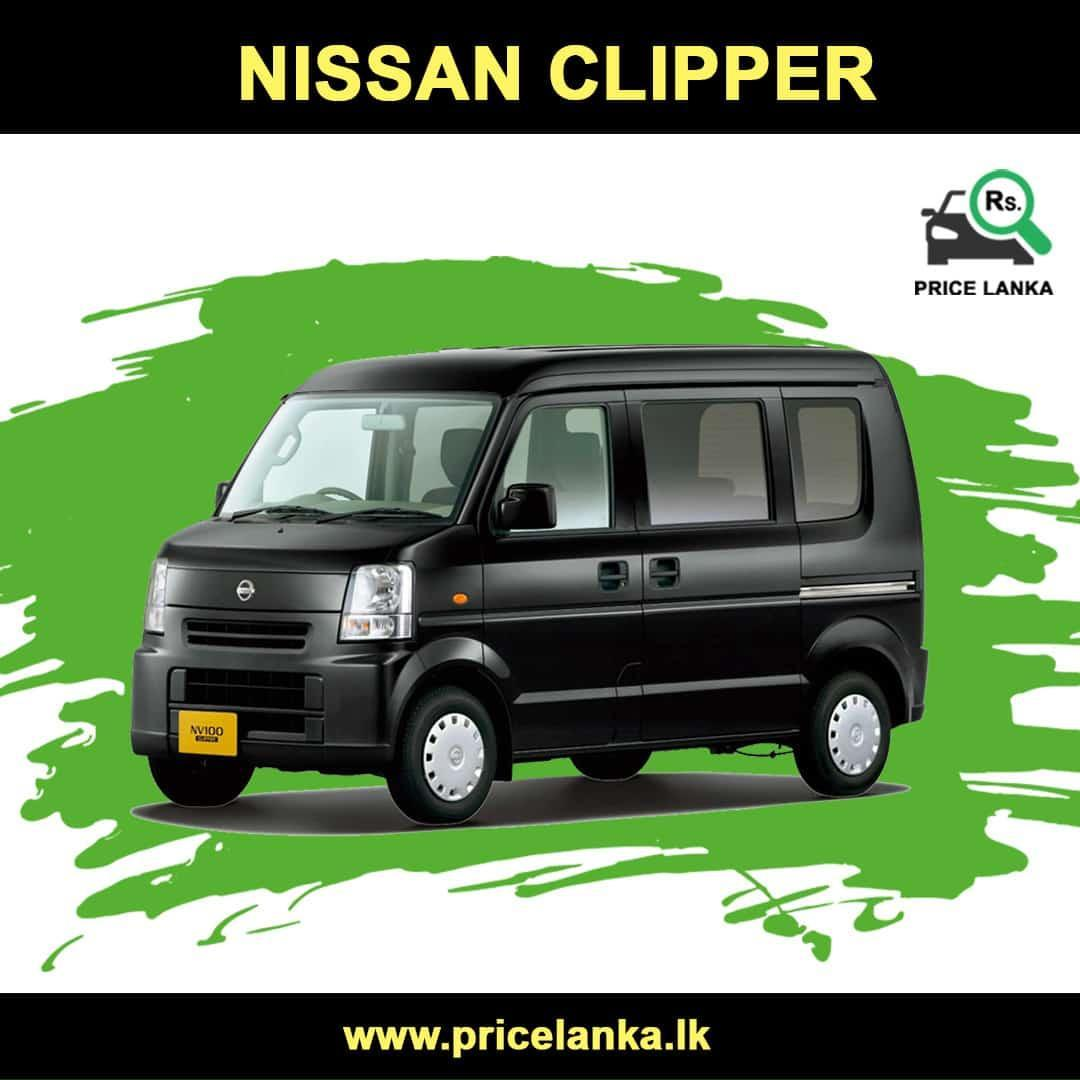car: (107, 331, 932, 817)
